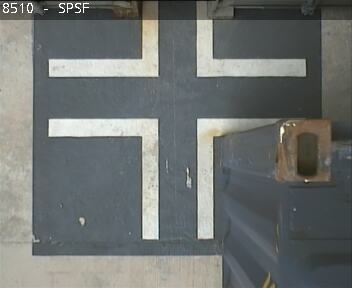groundmarker_1: (47, 116, 305, 239), (47, 1, 305, 76)
